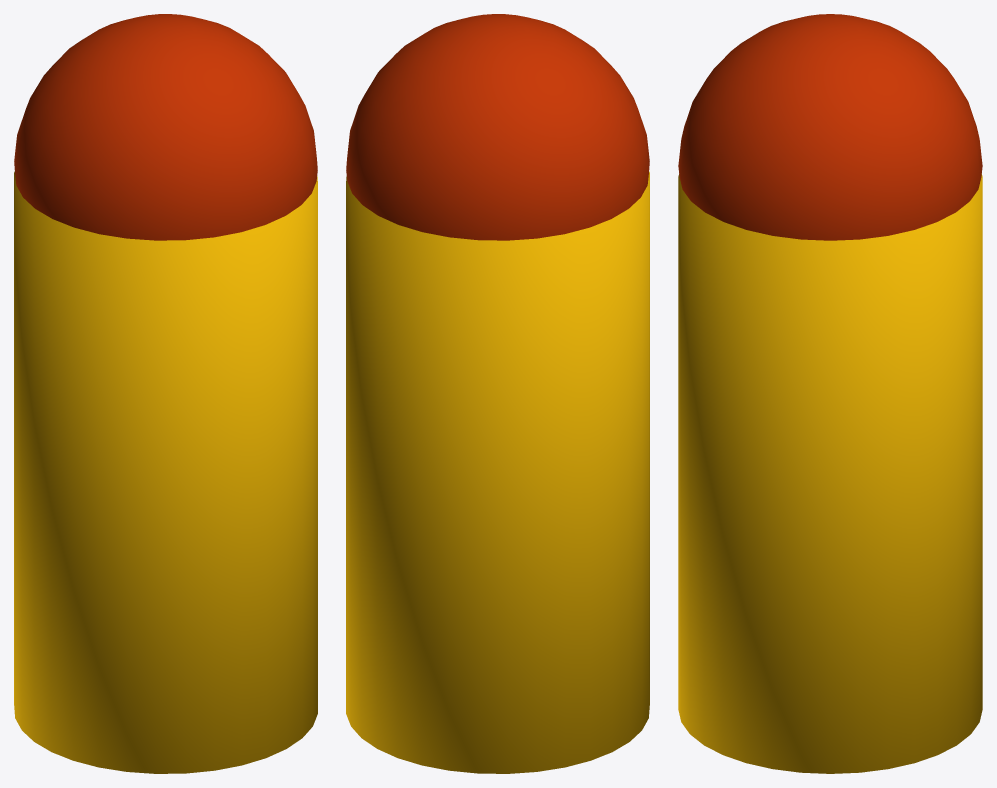
File: best_bullet.obj
3 renders of one model, left to right at view 1: azimuth 30°, elevation 25°; view 2: azimuth 150°, elevation 25°; view 3: azimuth 270°, elevation 25°, orthographic.
Parts seen in each view (by area): view 1: Cylinder, Sphere; view 2: Cylinder, Sphere; view 3: Cylinder, Sphere.
Part boxes in pixels (left/top/right/bottom): Cylinder: left=14, top=171, right=317, bottom=773; Sphere: left=14, top=14, right=317, bottom=240; Cylinder: left=346, top=171, right=649, bottom=773; Sphere: left=346, top=14, right=649, bottom=240; Cylinder: left=678, top=174, right=982, bottom=773; Sphere: left=678, top=14, right=982, bottom=240.
Bounding box in the file's own units: 2 × 4.94 × 2.
